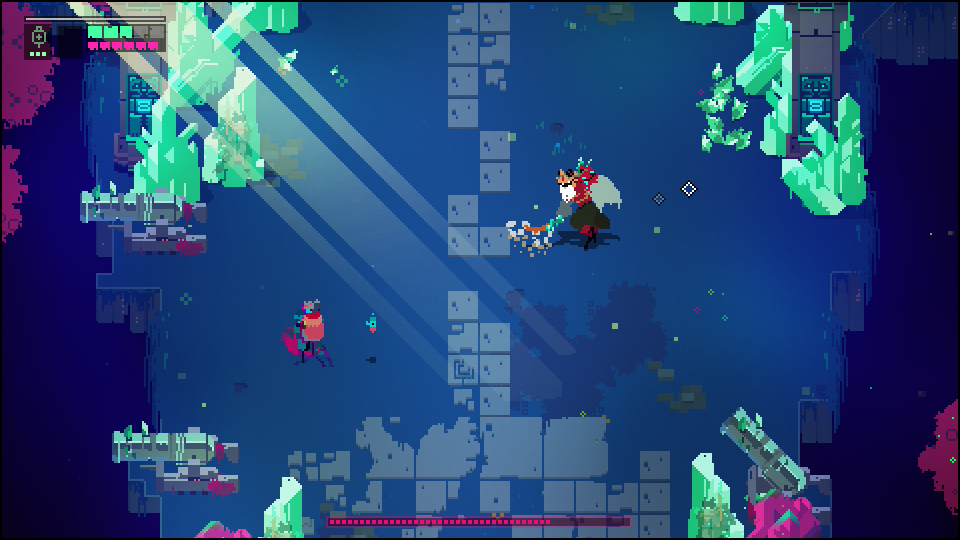hanged_man: (524, 155, 625, 256)
player: (301, 293, 324, 351)
